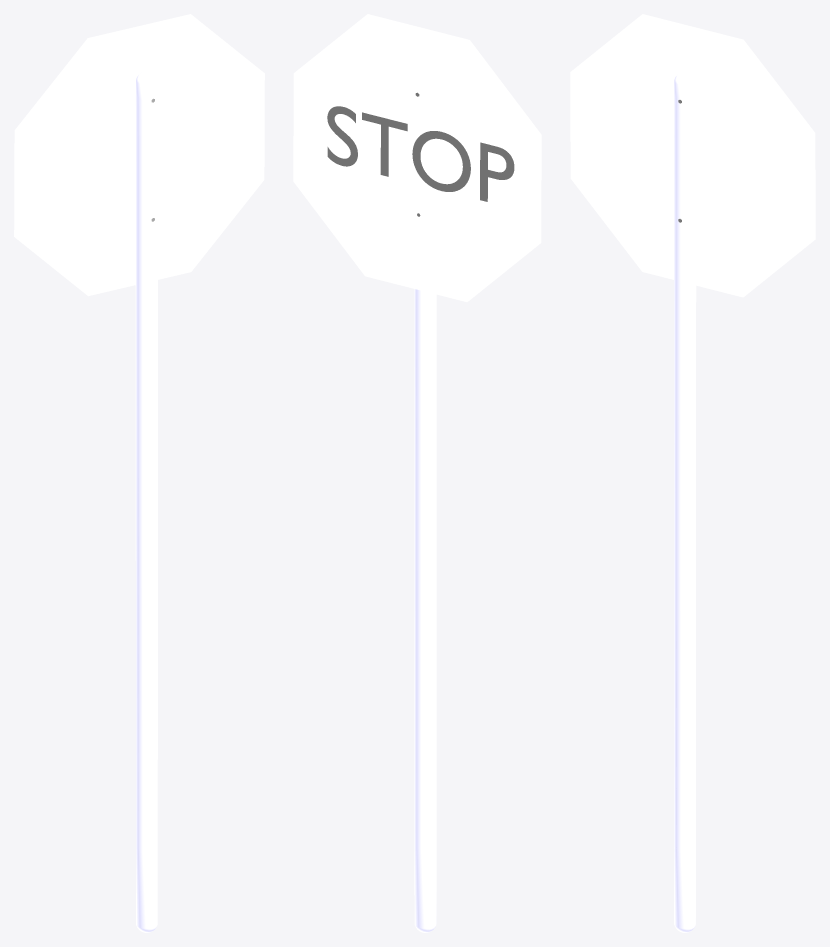
File: asset.glb
3 views of the same model, side by side, from view 1: azimuth 30°, elevation 25°; view 2: azimuth 150°, elevation 25°; view 3: azimuth 330°, elevation 25° (orthographic).
Parts seen in each view (by area): view 1: Circle, Poste; view 2: Circle, Poste, Text; view 3: Circle, Poste.
Part boxes in pixels (x1,y1,x2,y2): Circle: (14,14,264,296); Poste: (135,70,157,932); Circle: (293,14,541,301); Poste: (414,289,436,932); Text: (327,106,514,201); Circle: (570,14,815,297); Poste: (674,71,696,932).
Size of the model in its own units: 117 by 408 by 12.88.
9 materials, 1 textured.
